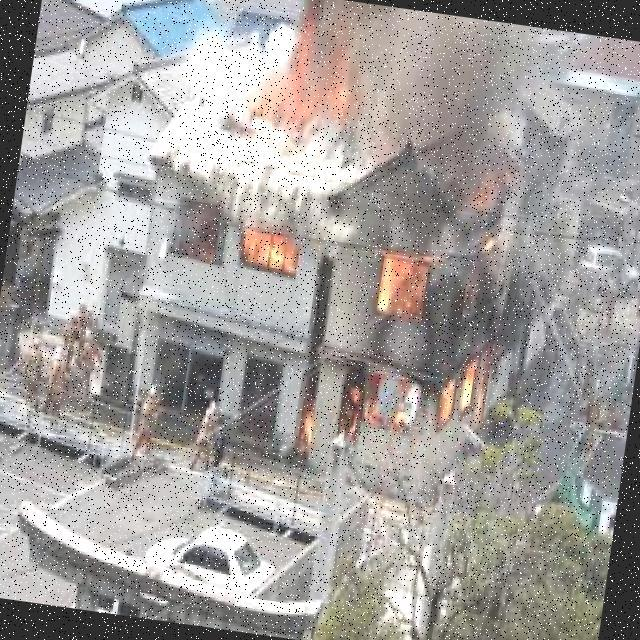Fire: (289, 192, 540, 497), (239, 7, 369, 145), (233, 222, 296, 274)
